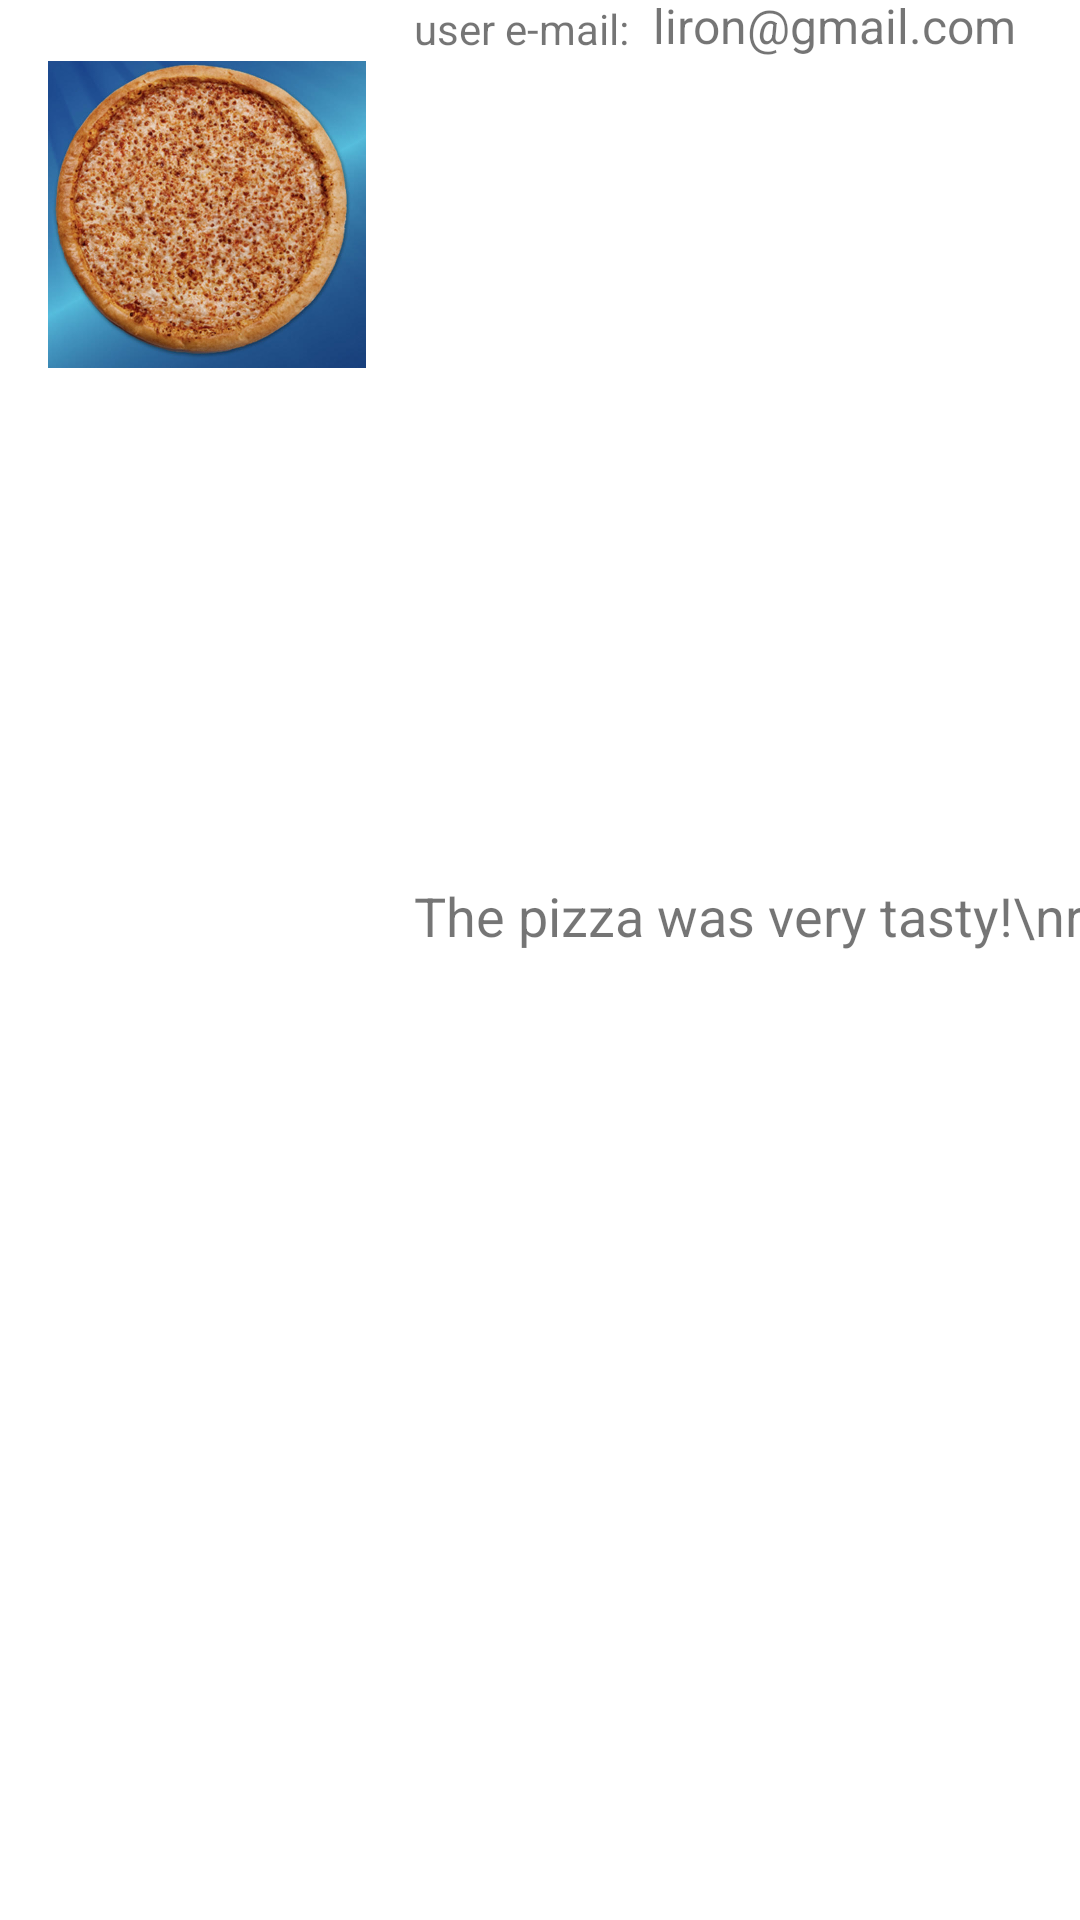

Named icons in this screenshot (1080px×1920px) and their centers, (x,y):
pizza: (207,214)
